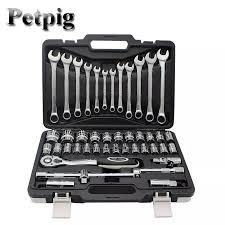wrench: (38, 154, 140, 167)
